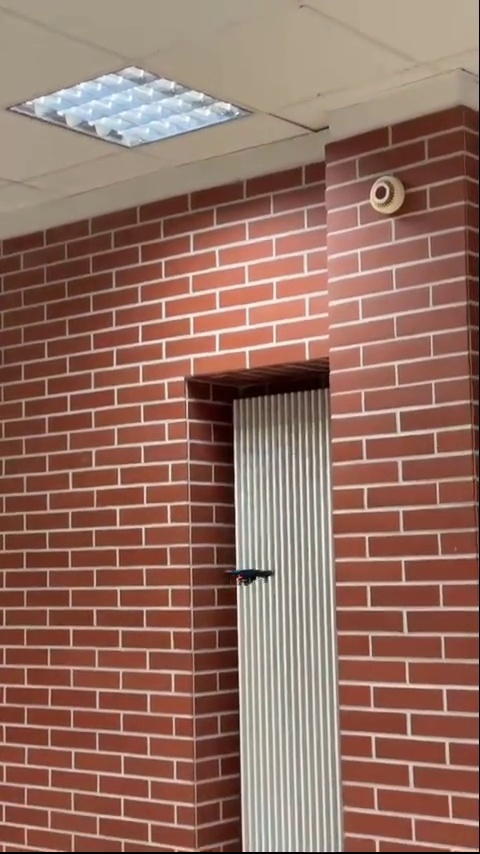drone: (219, 561, 276, 583)
